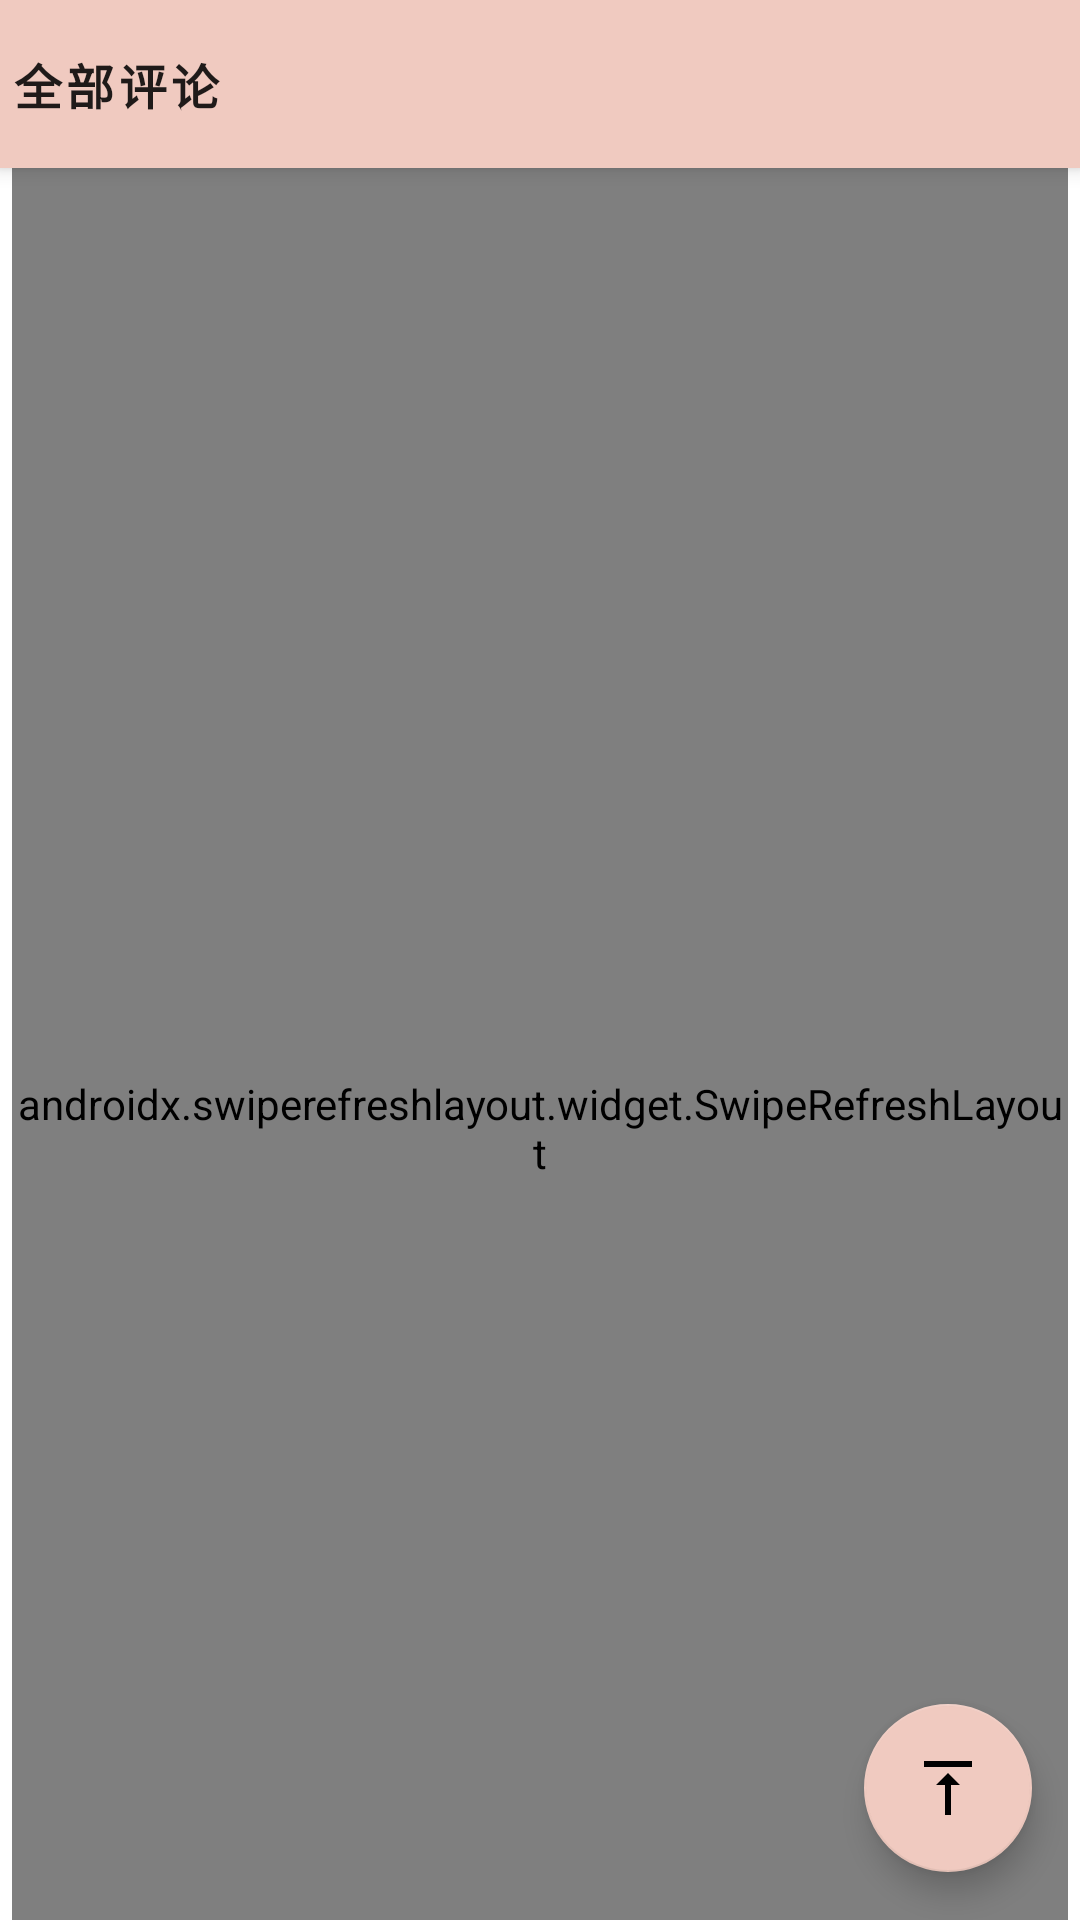

Locate icon controls on the screen. Image size 1080w x 1920h, boxes as (x1,y1,x2,y2).
comment top: (864,1704,1032,1872)
